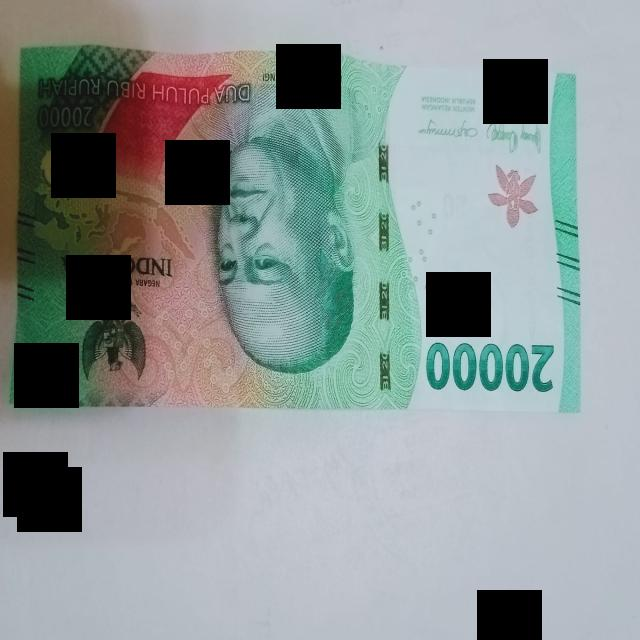dua puluh ribu rupiah: (10, 45, 580, 411)
